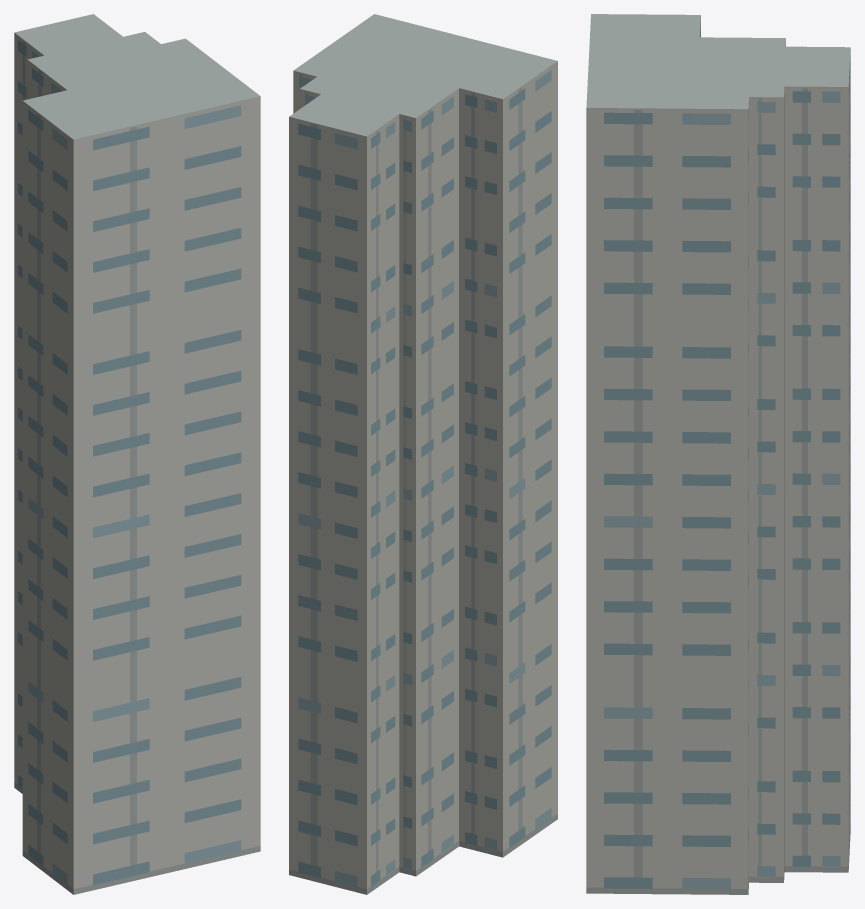
The model's file is residential-b2c950f9-6078-4d99-aafc-2acd658fb312.glb.
3 renders of one model, left to right at view 1: azimuth 30°, elevation 25°; view 2: azimuth 150°, elevation 25°; view 3: azimuth 270°, elevation 25°, orthographic. The views are drawn at different scales.
Parts seen in each view (by area): view 1: residential-b2c950f9-6078-4d99-aafc-2acd658fb312.tmp; view 2: residential-b2c950f9-6078-4d99-aafc-2acd658fb312.tmp; view 3: residential-b2c950f9-6078-4d99-aafc-2acd658fb312.tmp.
Boxes of the visible parts, left/top/right/bottom form: residential-b2c950f9-6078-4d99-aafc-2acd658fb312.tmp: left=14, top=14, right=260, bottom=894; residential-b2c950f9-6078-4d99-aafc-2acd658fb312.tmp: left=289, top=14, right=557, bottom=894; residential-b2c950f9-6078-4d99-aafc-2acd658fb312.tmp: left=586, top=14, right=850, bottom=894.
Bounding box in the file's own units: 31.22 × 120 × 36.57.
